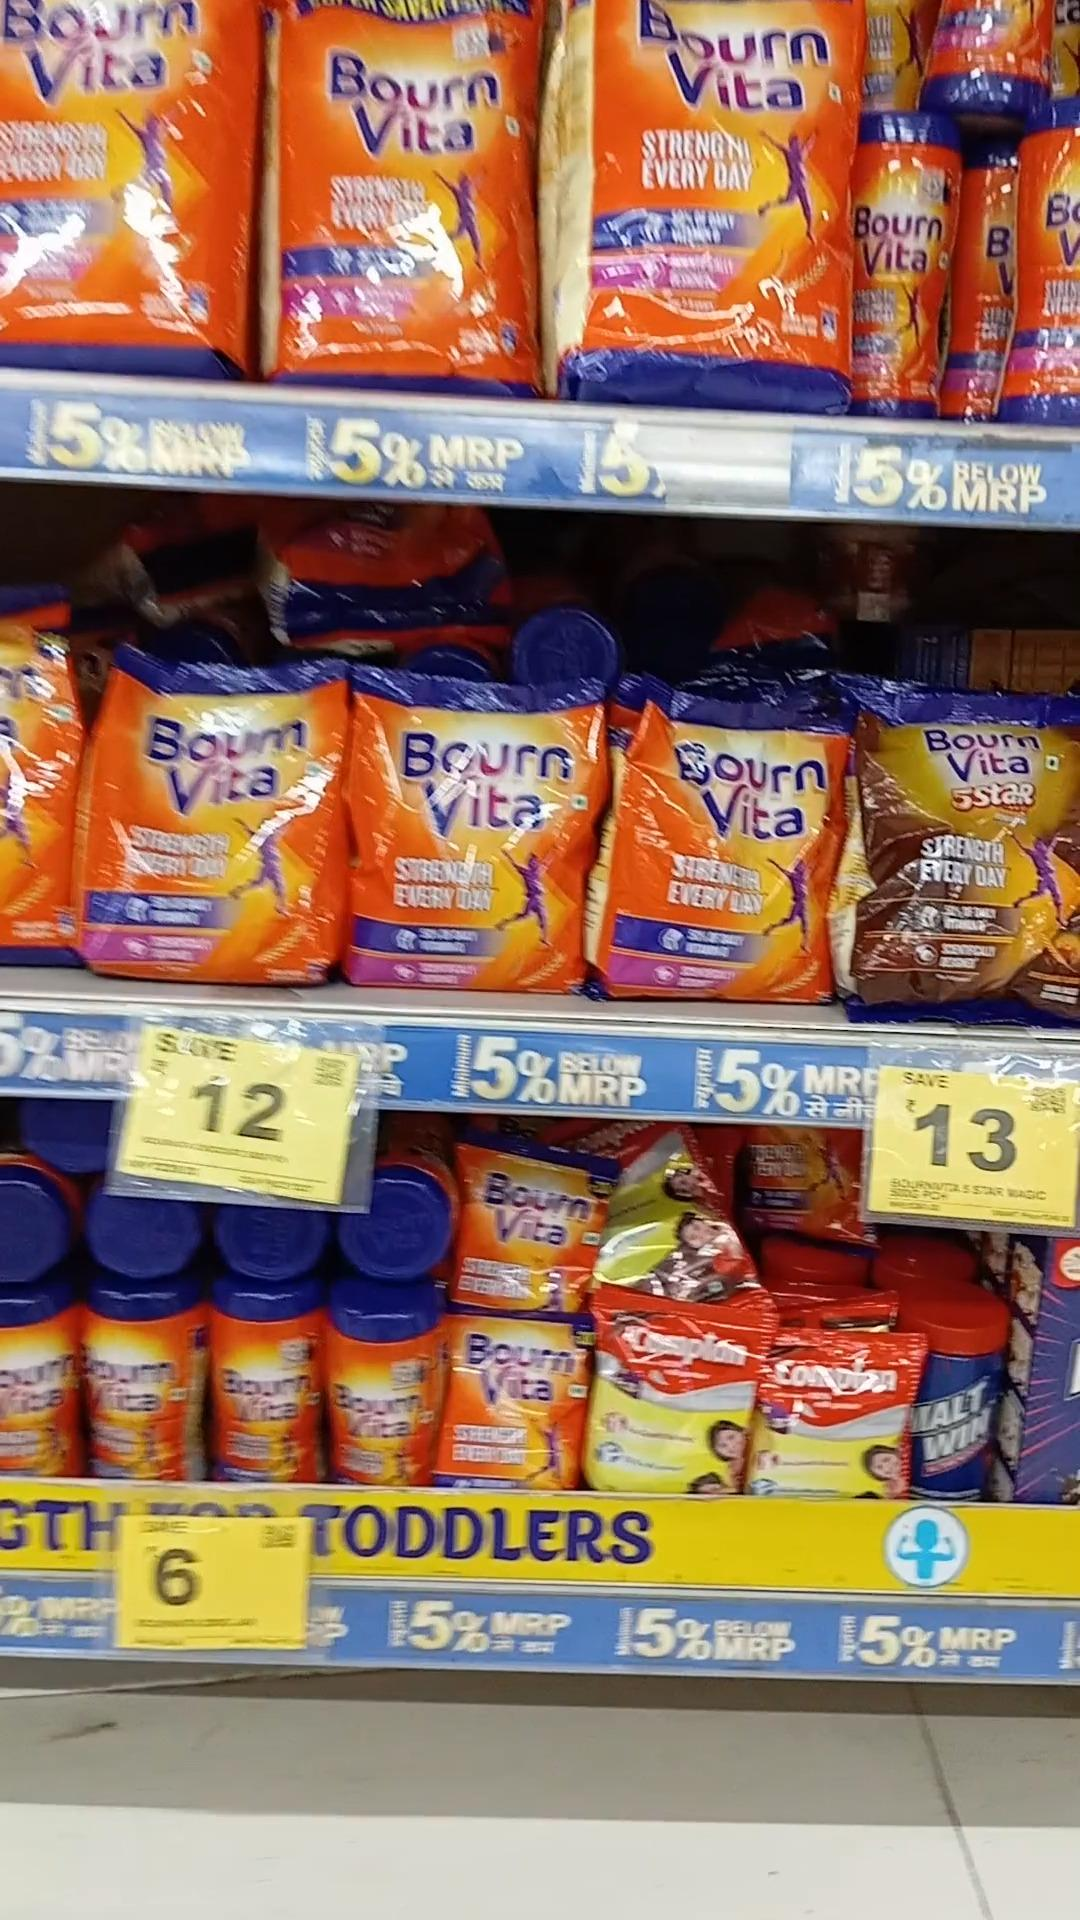BOURN_VITA_1_KG_POUCH: (562, 0, 851, 410), (257, 0, 542, 394)
BOURN_VITA_200_G_JAR: (206, 1284, 320, 1485), (86, 1282, 198, 1482), (327, 1299, 438, 1477)
BOURN_VITA_500_G_POUCH: (87, 641, 336, 984), (347, 667, 576, 994), (600, 676, 822, 1001)
BOURN_VITA_75_G_POUCH: (456, 1311, 575, 1491)
BOURN_VITA_FIVE_STAR_MAGIC_500_G_POUCH: (843, 683, 1080, 1017)
